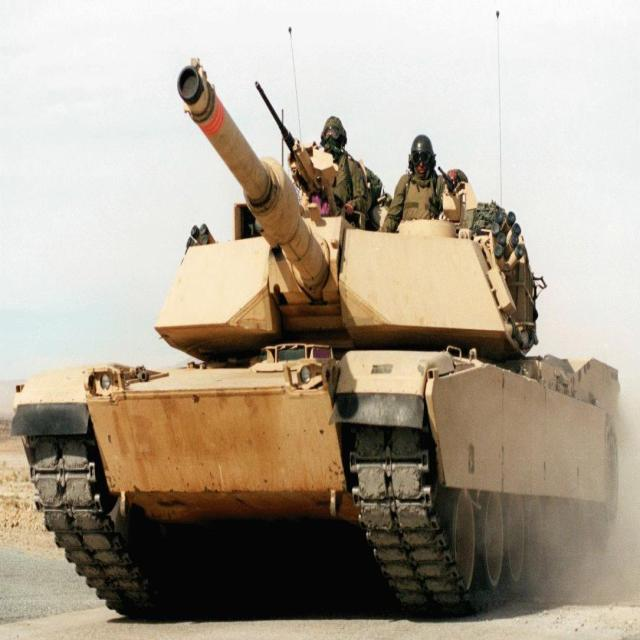Tanks: (9, 22, 570, 622)
